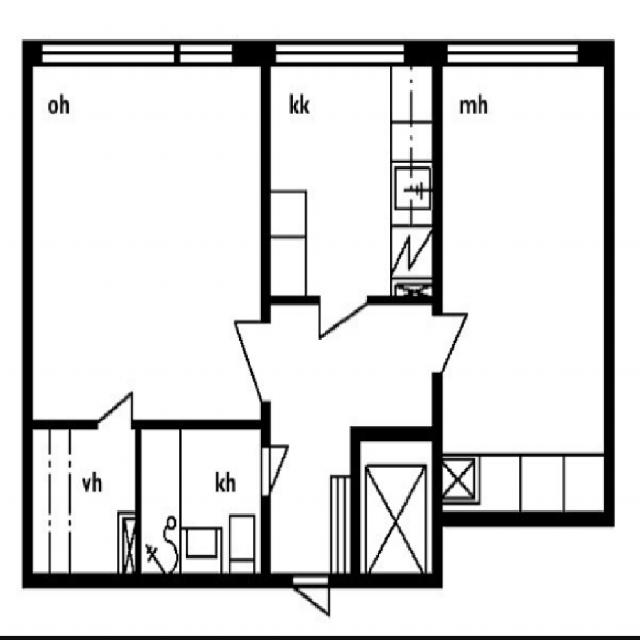door: (207, 322, 270, 402), (320, 294, 366, 374), (432, 312, 484, 374), (292, 572, 328, 640), (97, 366, 132, 428), (260, 446, 301, 492)
